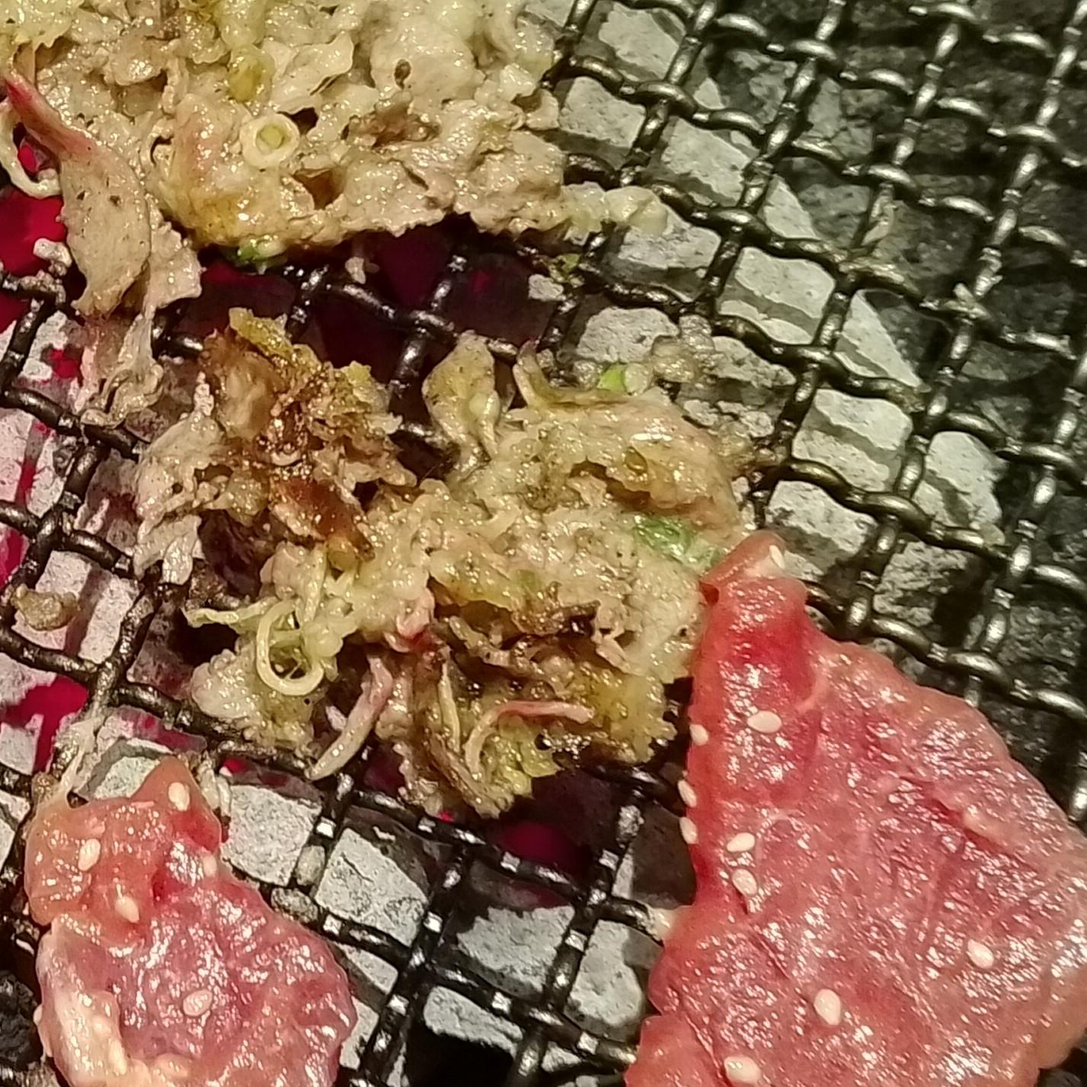Overcooked: (185, 310, 750, 802)
Undercooked: (651, 535, 1086, 1086), (21, 737, 362, 1086)
Well-Cooked: (51, 0, 578, 264)
